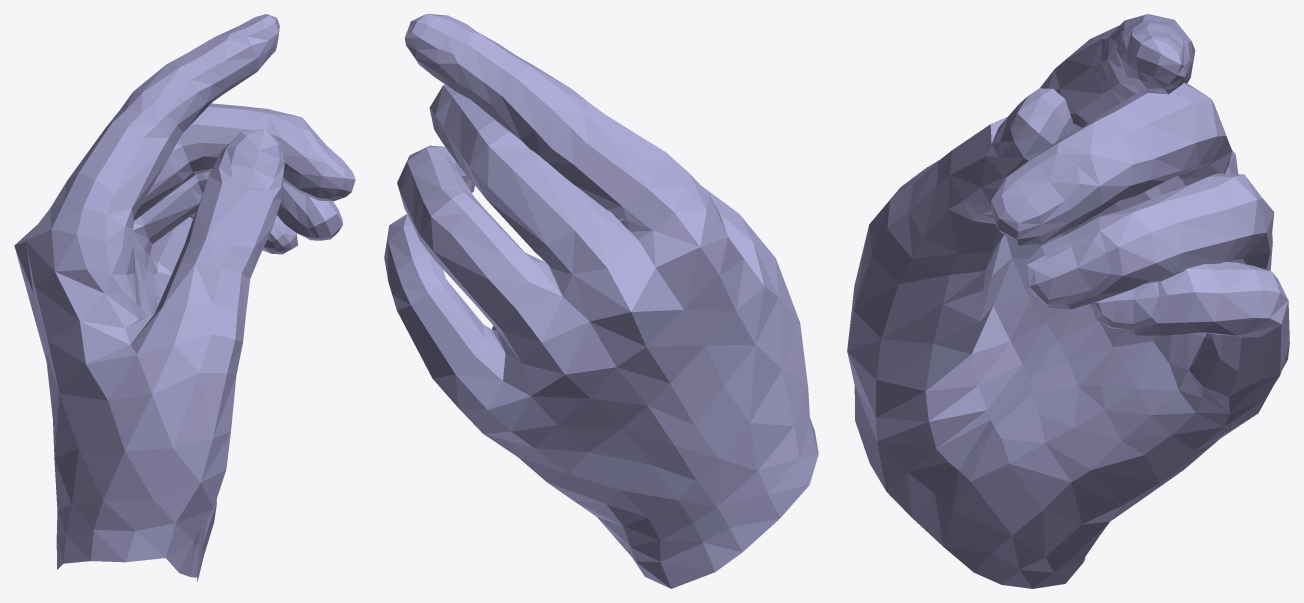
File: hand_0045.glb
3 renders of one model, left to right at view 1: azimuth 30°, elevation 25°; view 2: azimuth 150°, elevation 25°; view 3: azimuth 270°, elevation 25°, orthographic. The views are drawn at different scales.
Visible parts, largest first — view 1: world; view 2: world; view 3: world.
Part boxes in pixels (x1,y1,x2,y2): world: (14, 14, 355, 581); world: (384, 14, 818, 588); world: (847, 14, 1289, 588).
Size of the model in its own units: 0.0971 by 0.15 by 0.0922.
